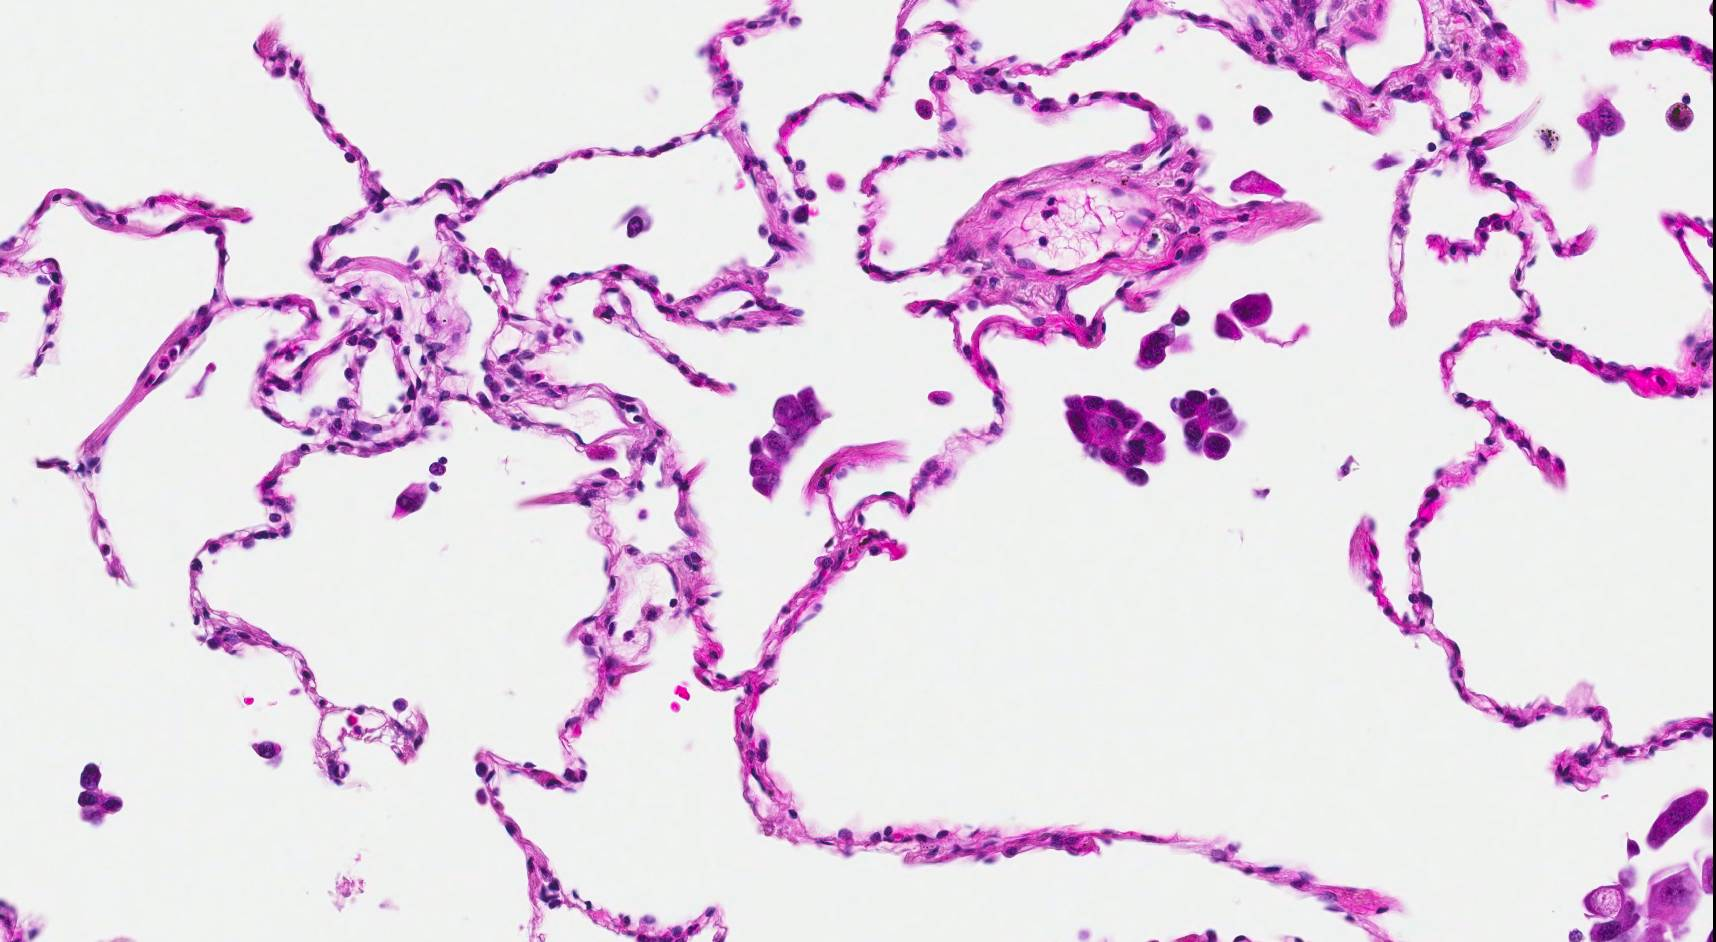stas: (1060, 390, 1166, 489), (746, 384, 830, 499), (1167, 383, 1249, 460), (69, 760, 128, 825), (1133, 312, 1180, 370)
